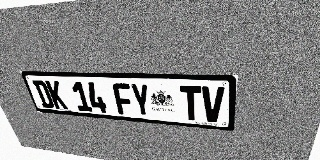1: (69, 81, 93, 112)
4: (85, 82, 108, 113)
D: (32, 80, 55, 108)
F: (112, 83, 135, 115)
K: (45, 80, 68, 110)
T: (180, 85, 201, 121)
V: (202, 86, 225, 123)
Y: (130, 83, 152, 117)
